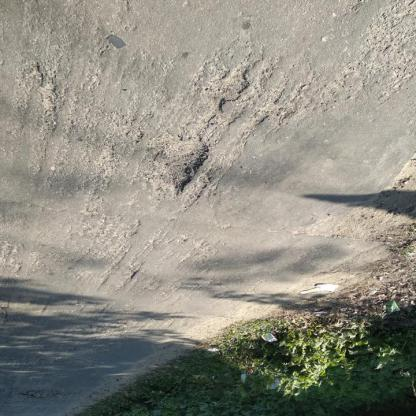pothole: (158, 139, 213, 198), (205, 67, 254, 111)
